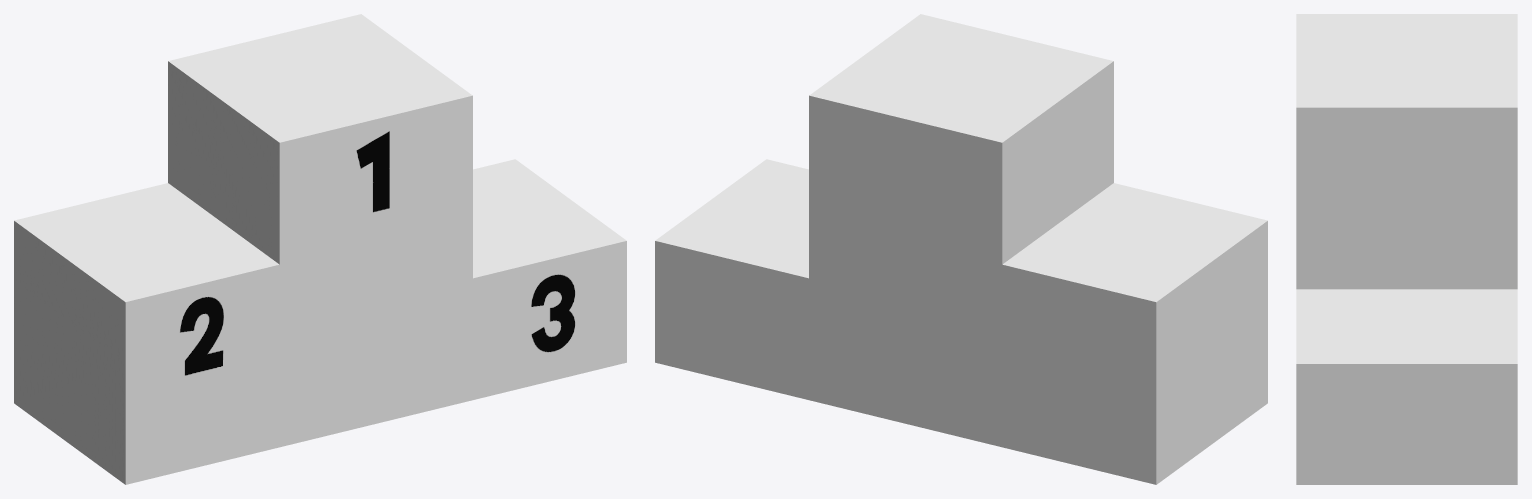
Rendered from Podium.fbx.
3 renders of one model, left to right at view 1: azimuth 30°, elevation 25°; view 2: azimuth 150°, elevation 25°; view 3: azimuth 270°, elevation 25°, orthographic.
Visible parts, largest first — view 1: pCube2; view 2: pCube2; view 3: pCube2.
Part boxes in pixels (x1,y1,x2,y2): pCube2: (14, 14, 626, 484); pCube2: (655, 14, 1267, 484); pCube2: (1296, 14, 1517, 484).
Size of the model in its own units: 45.55 by 26.44 by 17.55.
